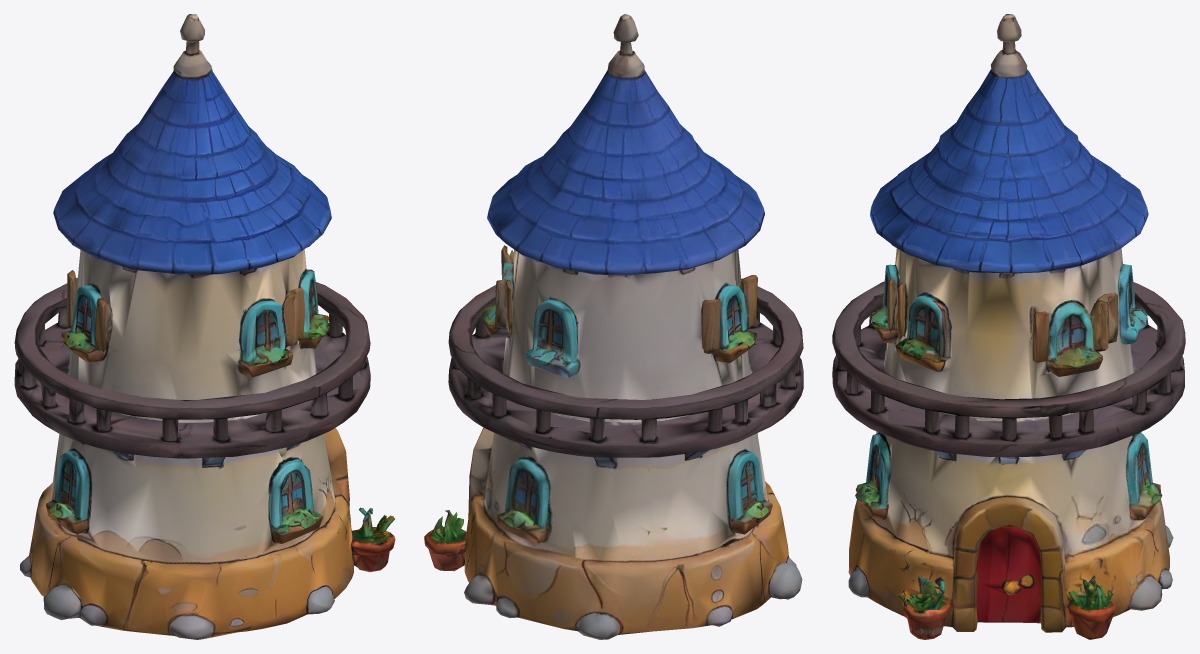
Rendered from circuit-windmill-v3-lod-BpQDR7UZ.glb.
3 renders of one model, left to right at view 1: azimuth 30°, elevation 25°; view 2: azimuth 150°, elevation 25°; view 3: azimuth 270°, elevation 25°, orthographic.
Parts seen in each view (by area): view 1: tripo_node_67a72db5-5747-4610-af30-08b5e34ea56e; view 2: tripo_node_67a72db5-5747-4610-af30-08b5e34ea56e; view 3: tripo_node_67a72db5-5747-4610-af30-08b5e34ea56e.
Boxes of the visible parts, x1,y1,x2,y2 form: tripo_node_67a72db5-5747-4610-af30-08b5e34ea56e: (14, 14, 395, 639); tripo_node_67a72db5-5747-4610-af30-08b5e34ea56e: (424, 14, 803, 639); tripo_node_67a72db5-5747-4610-af30-08b5e34ea56e: (832, 14, 1185, 639).
Size of the model in its own units: 0.5949 by 0.9993 by 0.5768.
Materials: 1 (1 with a texture image).
